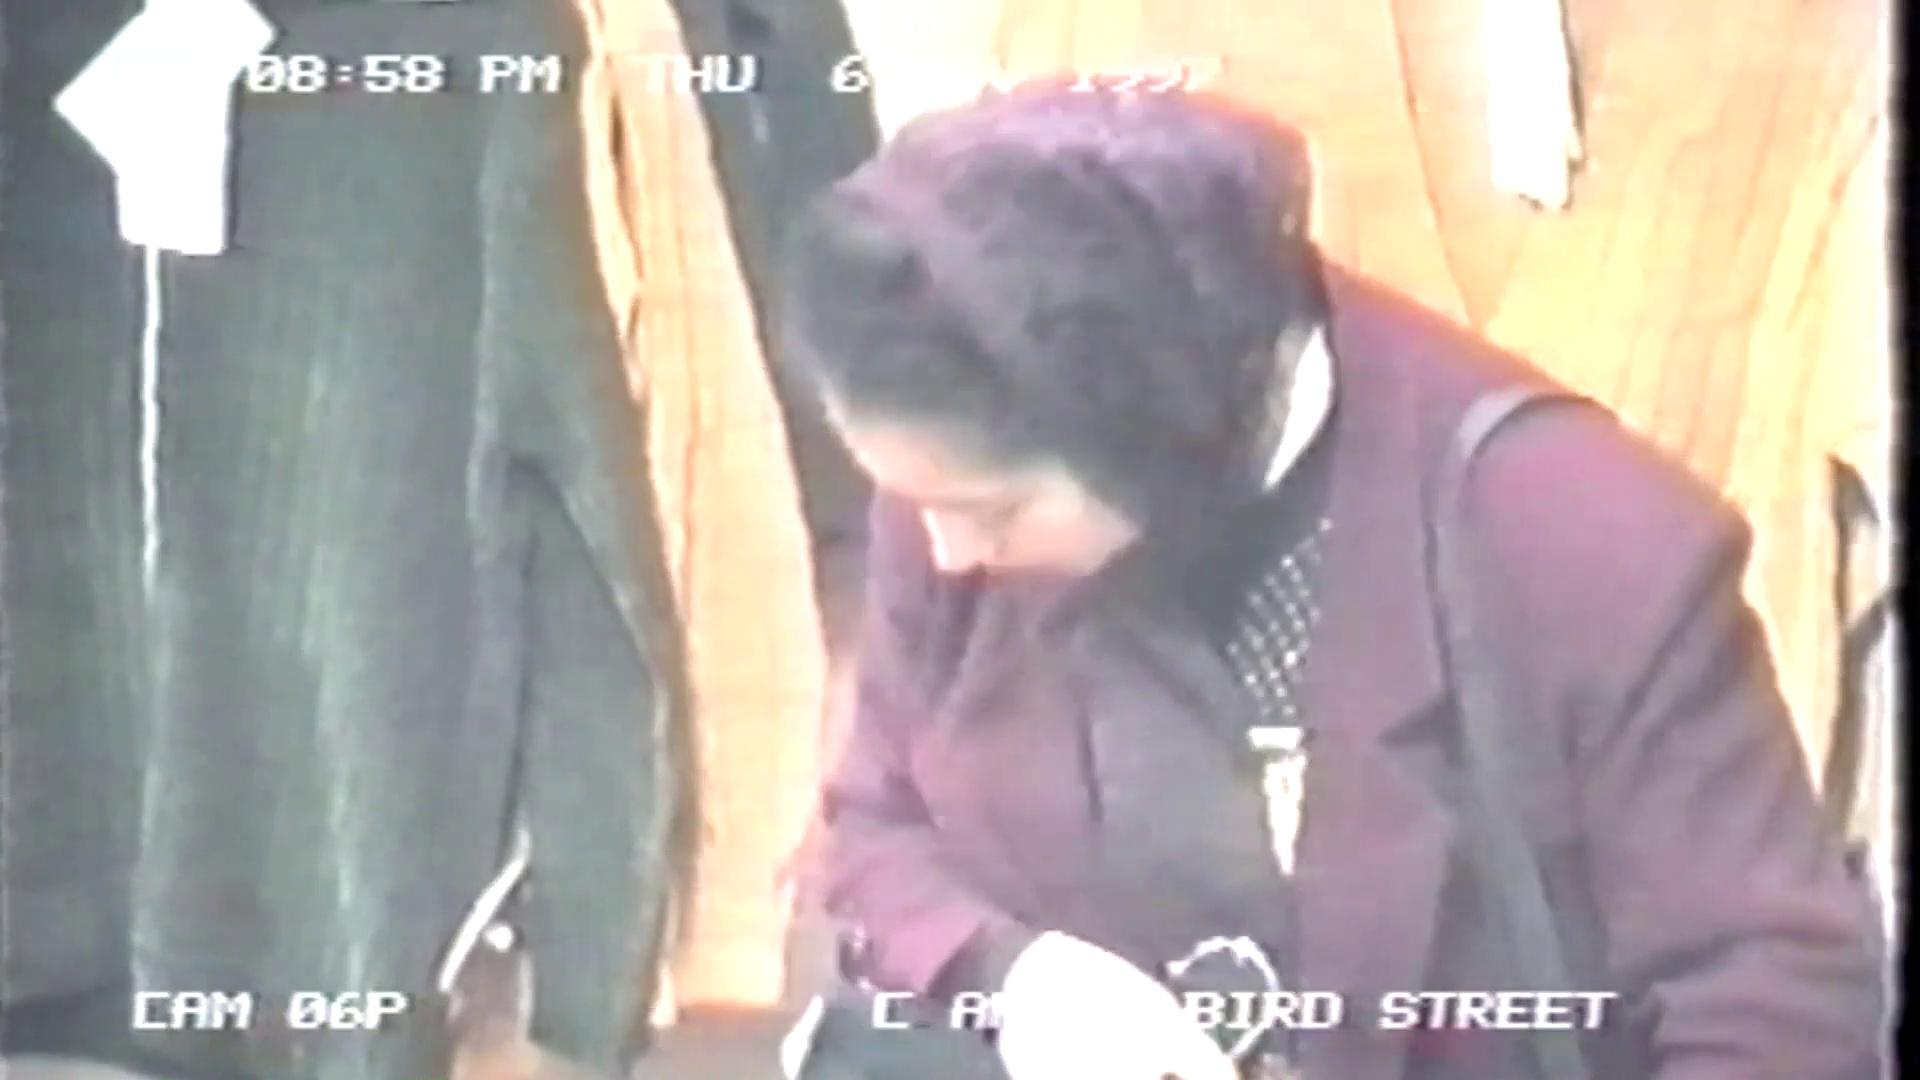Product: (708, 898, 1126, 1080)
Product-Picked: (533, 0, 1908, 1080)
